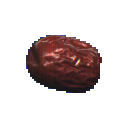gd: (22, 28, 111, 109)
